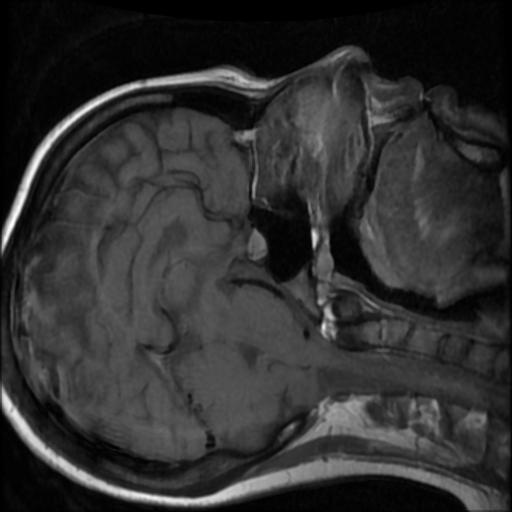pituitary tumour: (247, 225, 268, 261)
